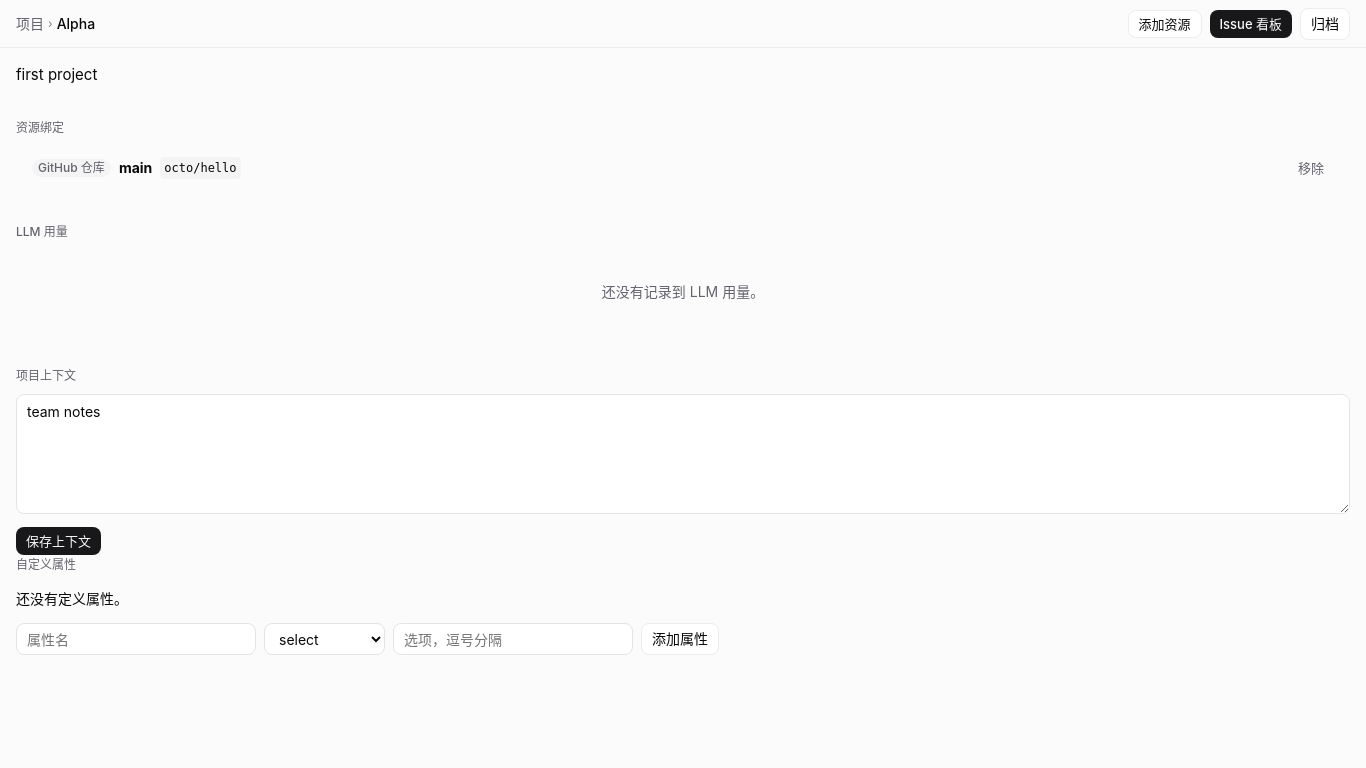
it: ProjectDetailPage › removes a resource
Click the button with test id "remove-r1" at (1311, 168), box [1288,154,1334,182]
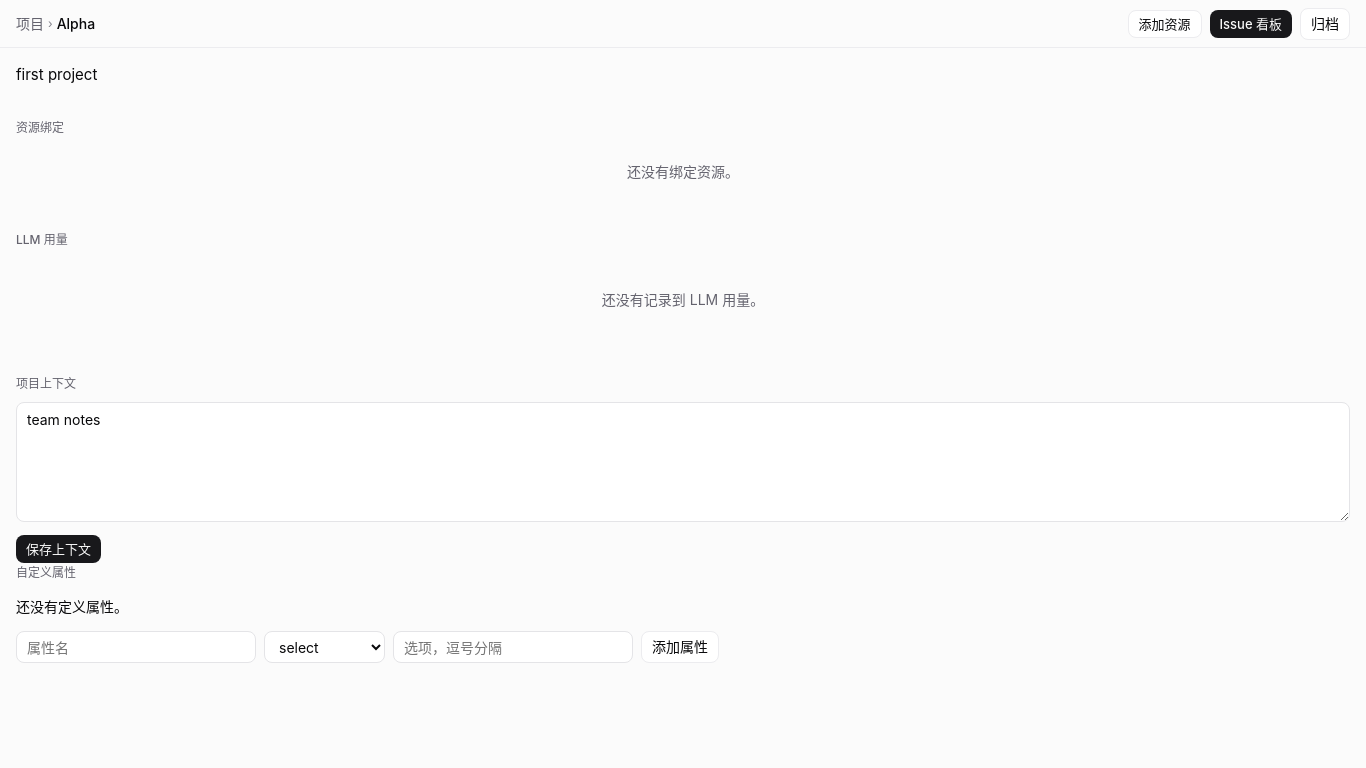
expect the text "还没有绑定资源。" is shown: met, box [627,163,739,180]
